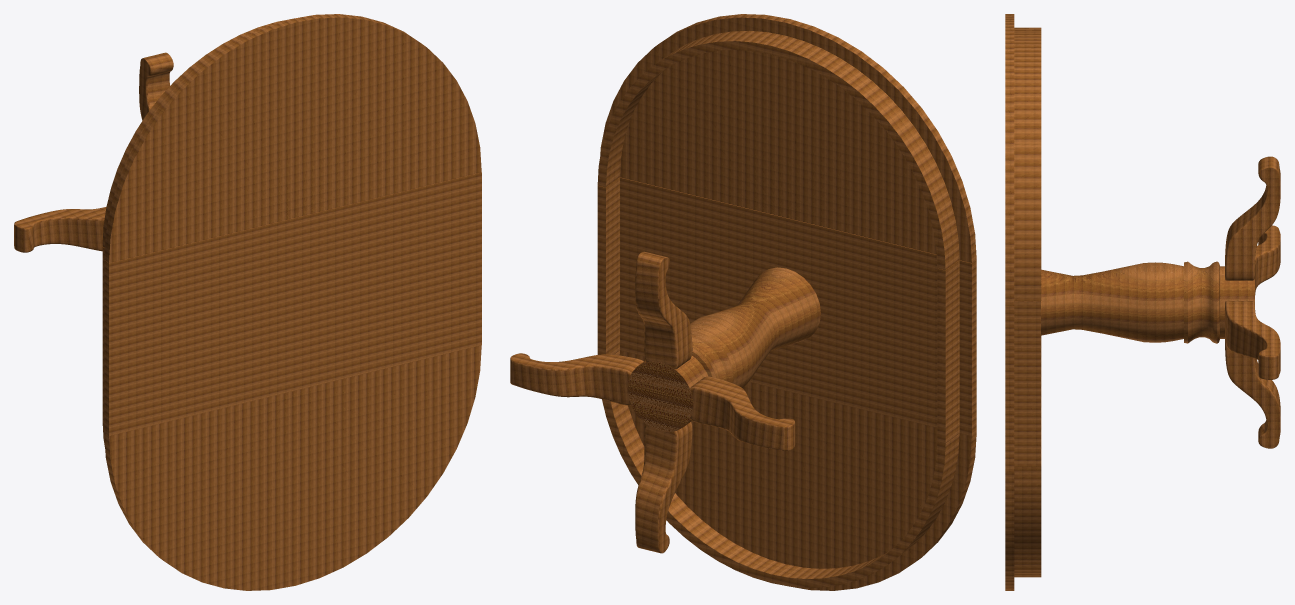
The model's file is Mesita.obj.
The picture shows the model from 3 angles, left to right: view 1: azimuth 30°, elevation 25°; view 2: azimuth 150°, elevation 25°; view 3: azimuth 270°, elevation 25°; orthographic projection. The views are drawn at different scales.
Parts seen in each view (by area): view 1: Box1386, Cylinder22, Cylinder21, Box1381, Tube14, Box1385; view 2: Cylinder22, Box1386, Cylinder21, Cylinder20, Tube14, Tube13, Box1382, Box1384, Box1385, Box1381, Box1380, Box1383; view 3: Cylinder20, Tube14, Box1383, Box1385, Tube13, Cylinder22, Box1384, Box1382, Box1386, Box1381, Cylinder21.
Boxes of the visible parts, x1,y1,x2,y2 form: Box1386: (104,172,481,435); Cylinder22: (104,14,481,262); Cylinder21: (104,345,481,590); Box1381: (14,207,106,252); Tube14: (102,19,287,247); Box1385: (139,52,173,120); Cylinder22: (600,14,976,262); Box1386: (620,177,976,436); Cylinder21: (620,350,976,590); Cylinder20: (627,267,820,432); Tube14: (597,30,959,270); Tube13: (602,350,959,587); Box1382: (635,422,692,553); Box1384: (510,353,643,405); Box1385: (635,251,692,369); Box1381: (690,376,795,450); Box1380: (937,260,959,443); Box1383: (597,177,619,354); Cylinder20: (1041,261,1254,343); Tube14: (1014,27,1041,300); Box1383: (1014,301,1040,466); Box1385: (1225,156,1280,280); Tube13: (1014,336,1041,577); Cylinder22: (1005,14,1014,306); Box1384: (1225,301,1280,379); Box1382: (1225,339,1280,448); Box1386: (1005,306,1014,472); Box1381: (1255,225,1280,294); Cylinder21: (1005,472,1014,590).
Bounding box in the file's own units: 115 × 166 × 76.75.
Materials: 1 (1 with a texture image).
